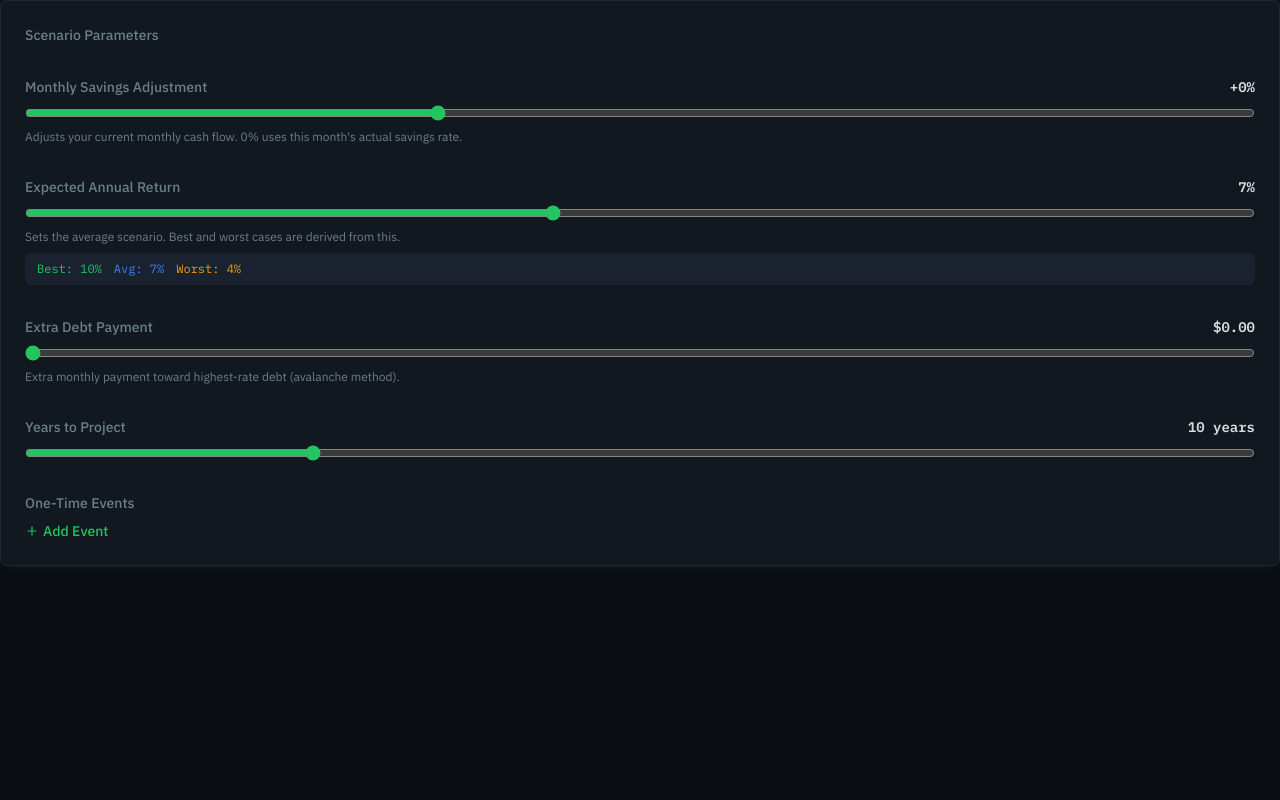
ScenarioSliders › opens add event form when Add Event is clicked
The image size is (1280, 800).
What coordinates should you click on to do the following:
click the button "Add Event"
I would click on:
 (76, 531)
Its box is [25,521,1255,541].
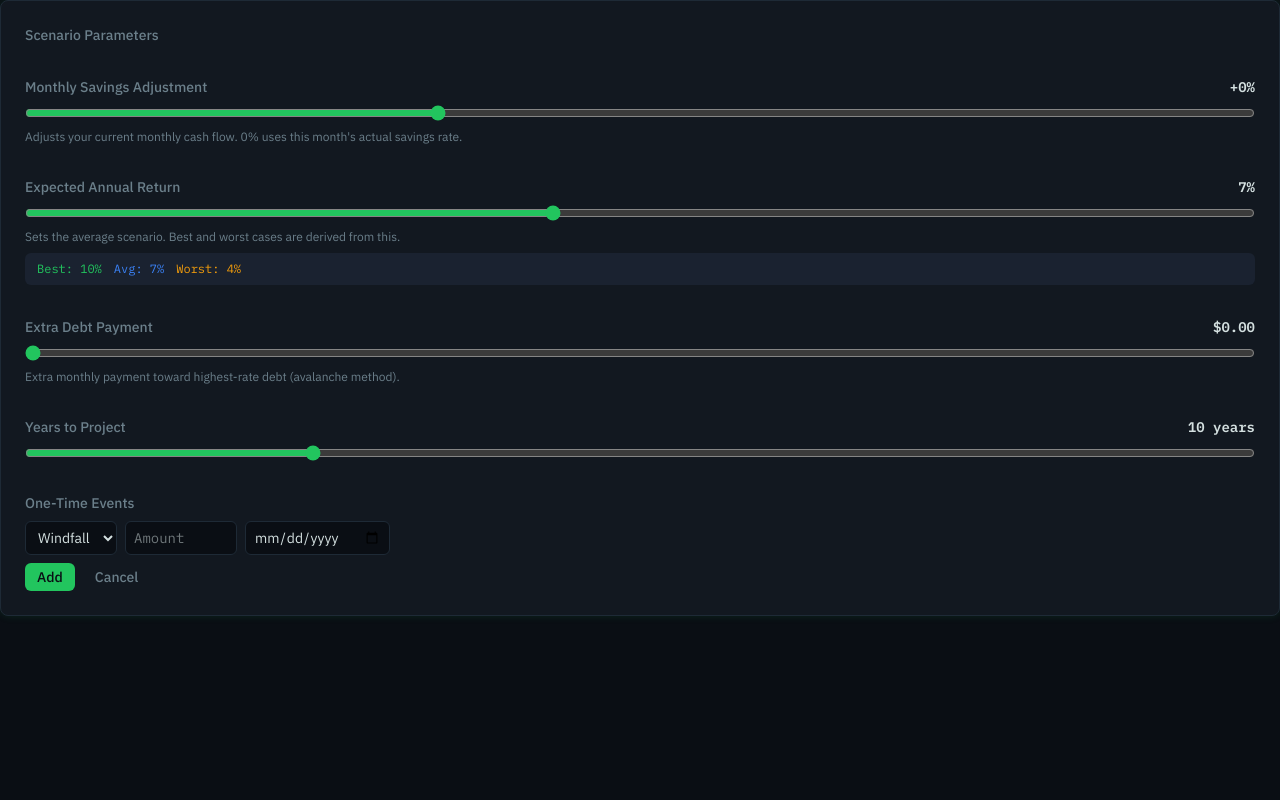
Expected: the button "Add" is shown, [25,563,75,591]
Expected: the button "Cancel" is shown, [83,563,150,591]
